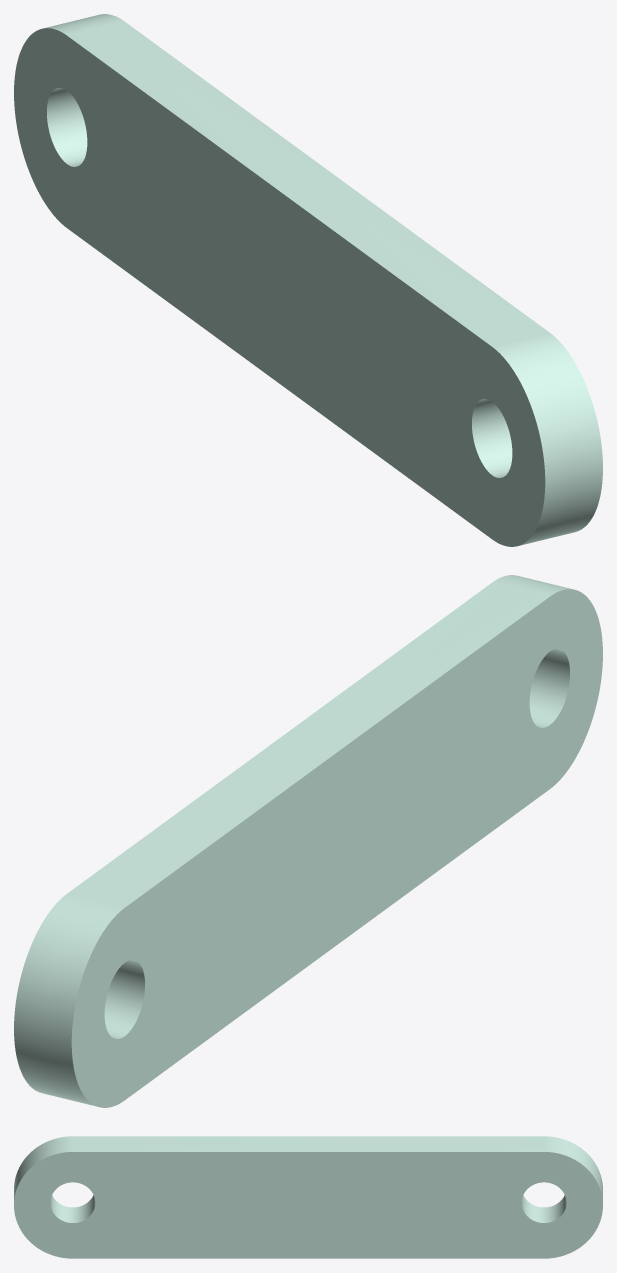
3 renders of one model, top to bottom at view 1: azimuth 30°, elevation 25°; view 2: azimuth 150°, elevation 25°; view 3: azimuth 270°, elevation 25°, orthographic. The views are drawn at different scales.
Parts seen in each view (by area): view 1: Renderer Node; view 2: Renderer Node; view 3: Renderer Node.
Boxes of the visible parts, x1,y1,x2,y2 form: Renderer Node: [14, 14, 602, 546]; Renderer Node: [14, 575, 602, 1107]; Renderer Node: [14, 1136, 602, 1258].
Bounding box in the file's own units: 0.0938 × 0.2988 × 1.49.
